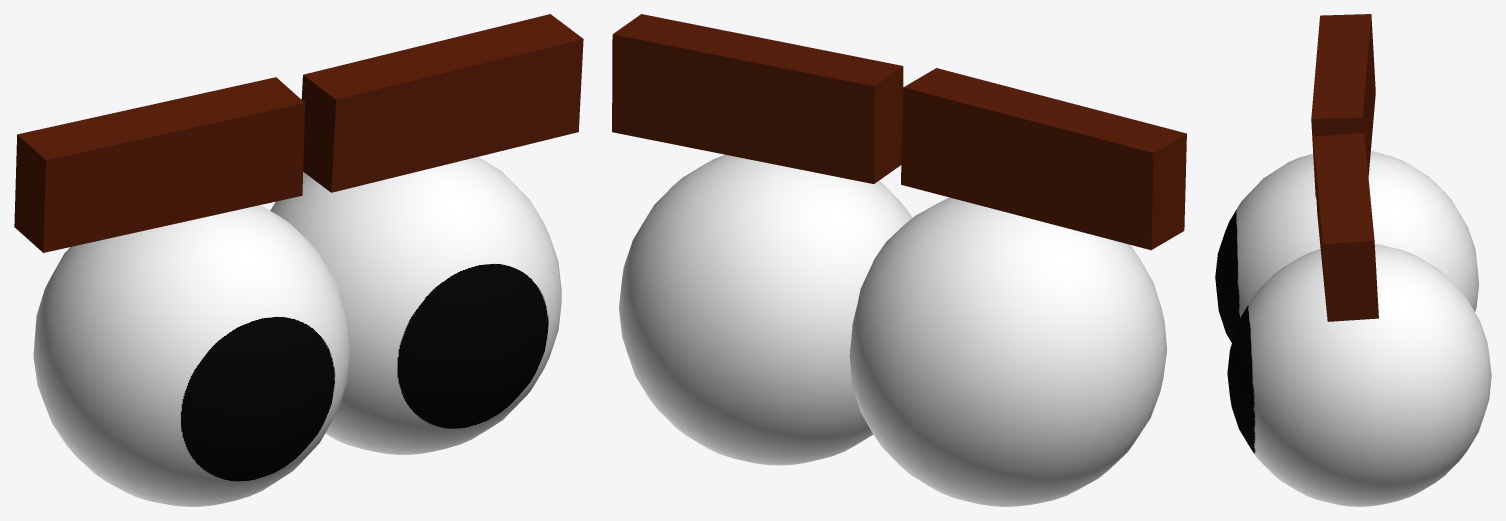
Rendered from Bounce.fbx.
The picture shows the model from 3 angles, left to right: view 1: azimuth 30°, elevation 25°; view 2: azimuth 150°, elevation 25°; view 3: azimuth 270°, elevation 25°; orthographic projection. The views are drawn at different scales.
Visible parts, largest first — view 1: Cubo; view 2: Cubo; view 3: Cubo.
Boxes of the visible parts, <box> form: Cubo: <box>14,14,583,506</box>; Cubo: <box>612,14,1186,506</box>; Cubo: <box>1215,14,1491,506</box>.
Bounding box in the file's own units: 250 × 174 × 133.
Materials: 2 (2 with a texture image).
